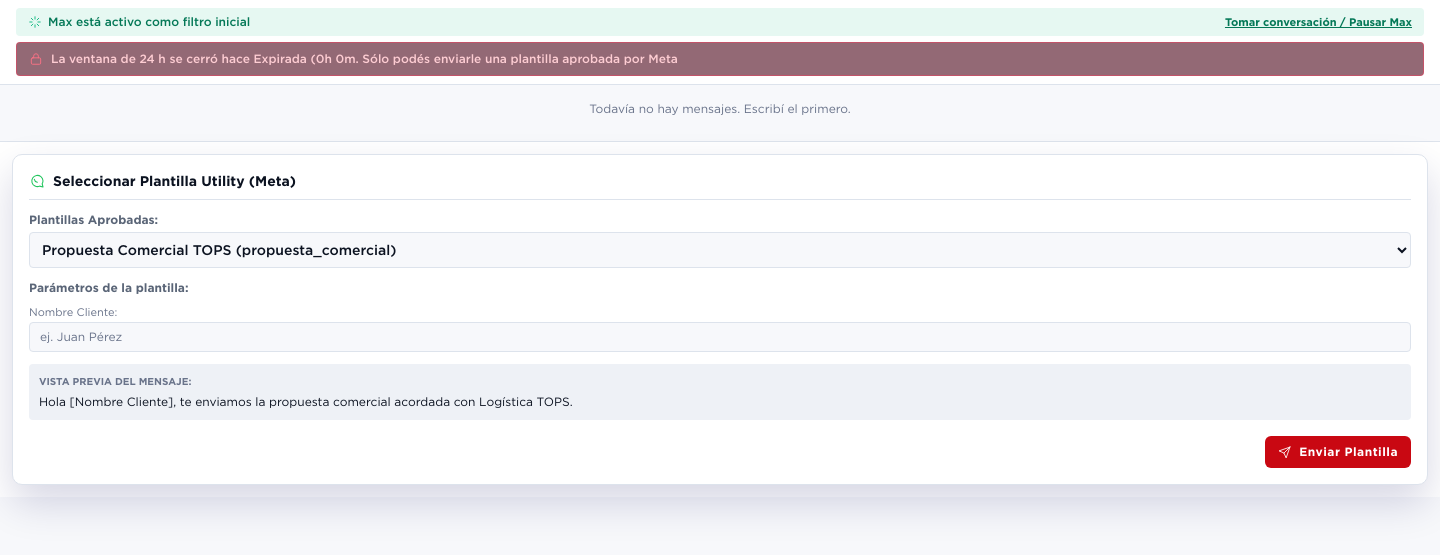
Test: HOTFIX · control reversible de Max › si Supabase rechaza la orden, conserva el estado anterior y muestra el error
What coordinates should you click on to do the following:
click the button "Tomar conversación / Pausar Max"
I would click on:
 (1318, 22)
Its box is [1225,14,1412,30].
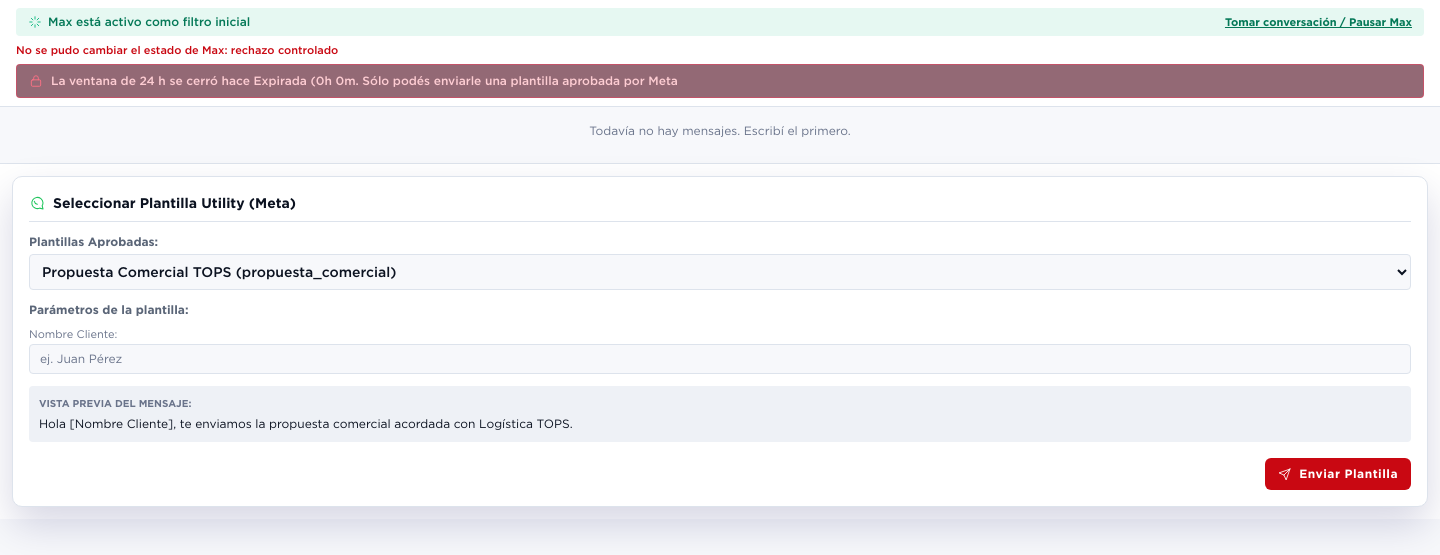
Expected: the text "Max está activo como filtro inicial" is shown, [48,14,250,30]
Now the text "rechazo controlado" is shown, box [231,44,338,56]
